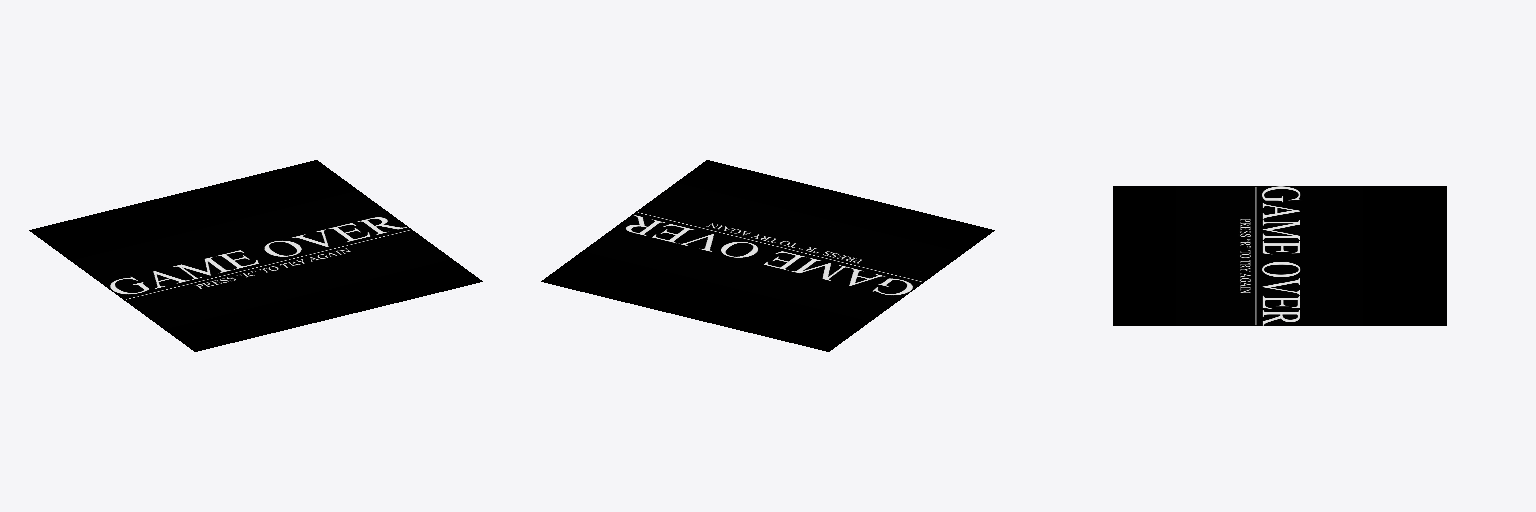
3 renders of one model, left to right at view 1: azimuth 30°, elevation 25°; view 2: azimuth 150°, elevation 25°; view 3: azimuth 270°, elevation 25°, orthographic.
Visible parts, largest first — view 1: Plane; view 2: Plane; view 3: Plane.
Boxes of the visible parts, x1,y1,x2,y2 form: Plane: [29, 160, 482, 351]; Plane: [541, 160, 994, 351]; Plane: [1113, 186, 1446, 325].
Size of the model in its own units: 2 by 0 by 2.
Materials: 1 (1 with a texture image).